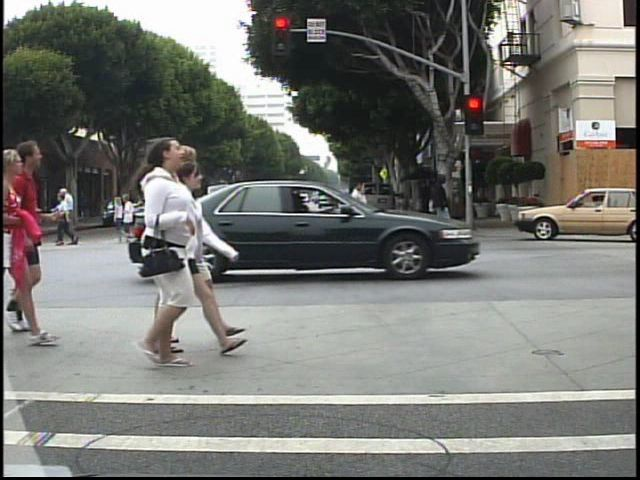person: (118, 138, 213, 379), (156, 157, 223, 367), (171, 146, 239, 351), (420, 168, 455, 241), (344, 177, 371, 241), (54, 191, 83, 246), (173, 186, 197, 249), (229, 182, 251, 240), (60, 184, 79, 247), (348, 187, 364, 223)
